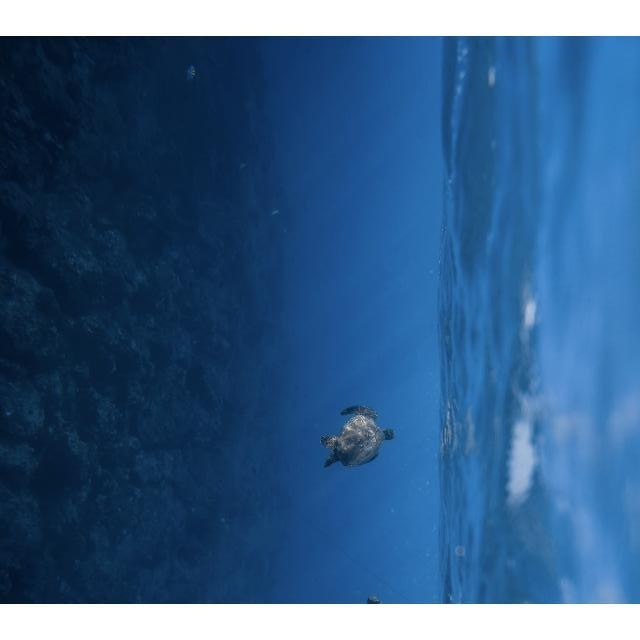turtle: (321, 405, 395, 469)
